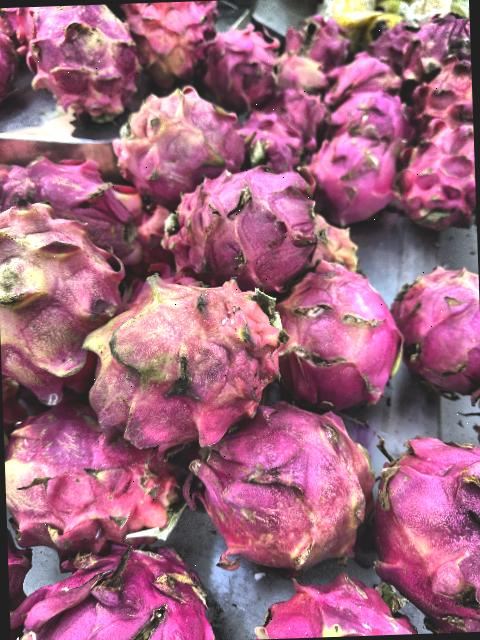buah-naga-belum-matang: (81, 268, 287, 434), (200, 409, 359, 572), (0, 194, 122, 387), (10, 402, 176, 542), (115, 91, 246, 181)
buah-naga-matang: (366, 429, 480, 612), (8, 543, 211, 640), (277, 259, 406, 400), (168, 165, 314, 279), (0, 151, 149, 258), (389, 271, 480, 408), (32, 8, 136, 116), (268, 576, 412, 639), (314, 130, 402, 232), (407, 122, 477, 230), (126, 5, 214, 90), (206, 20, 284, 109), (410, 67, 473, 133), (408, 9, 471, 69), (241, 109, 298, 168), (336, 84, 406, 130), (320, 52, 390, 90)
